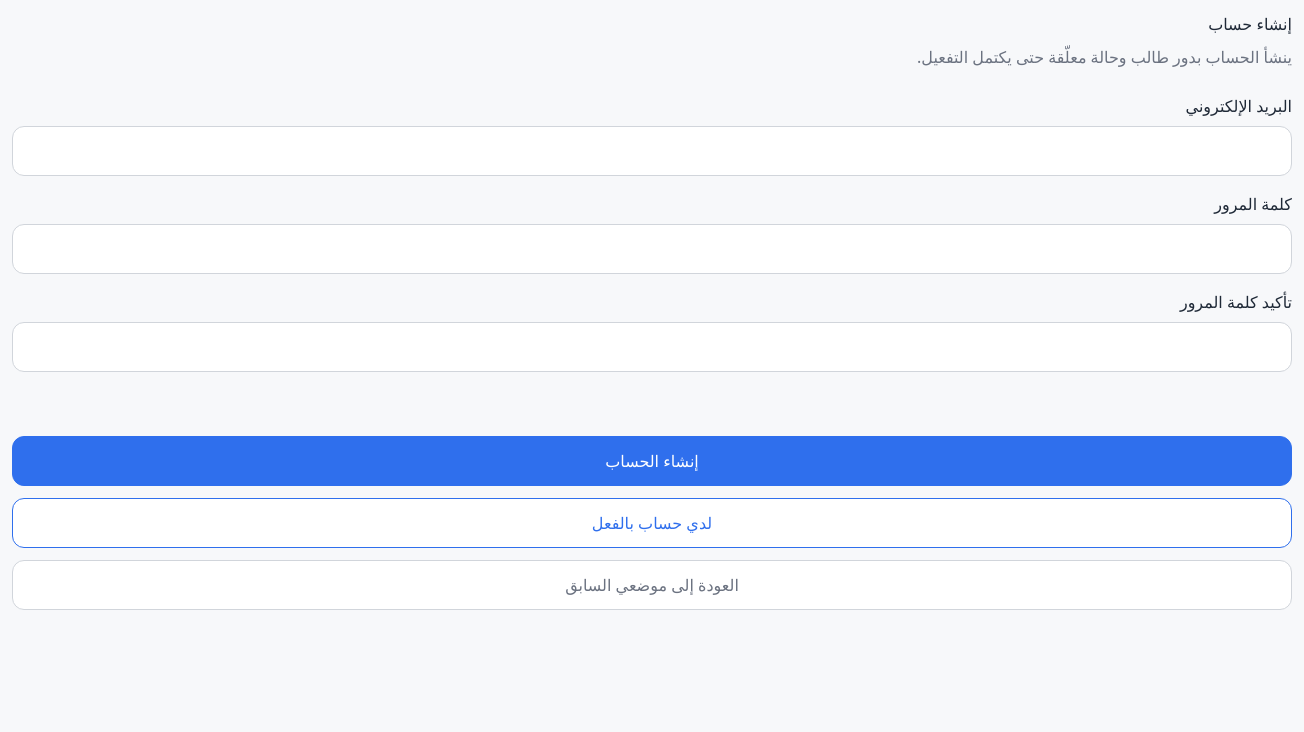
Test case: SignUpForm › يرفض كلمات المرور غير المتطابقة قبل استدعاء الخدمة
Type "new@example.com" into the field labelled "البريد الإلكتروني" at point(652, 151), box [12,126,1292,176]
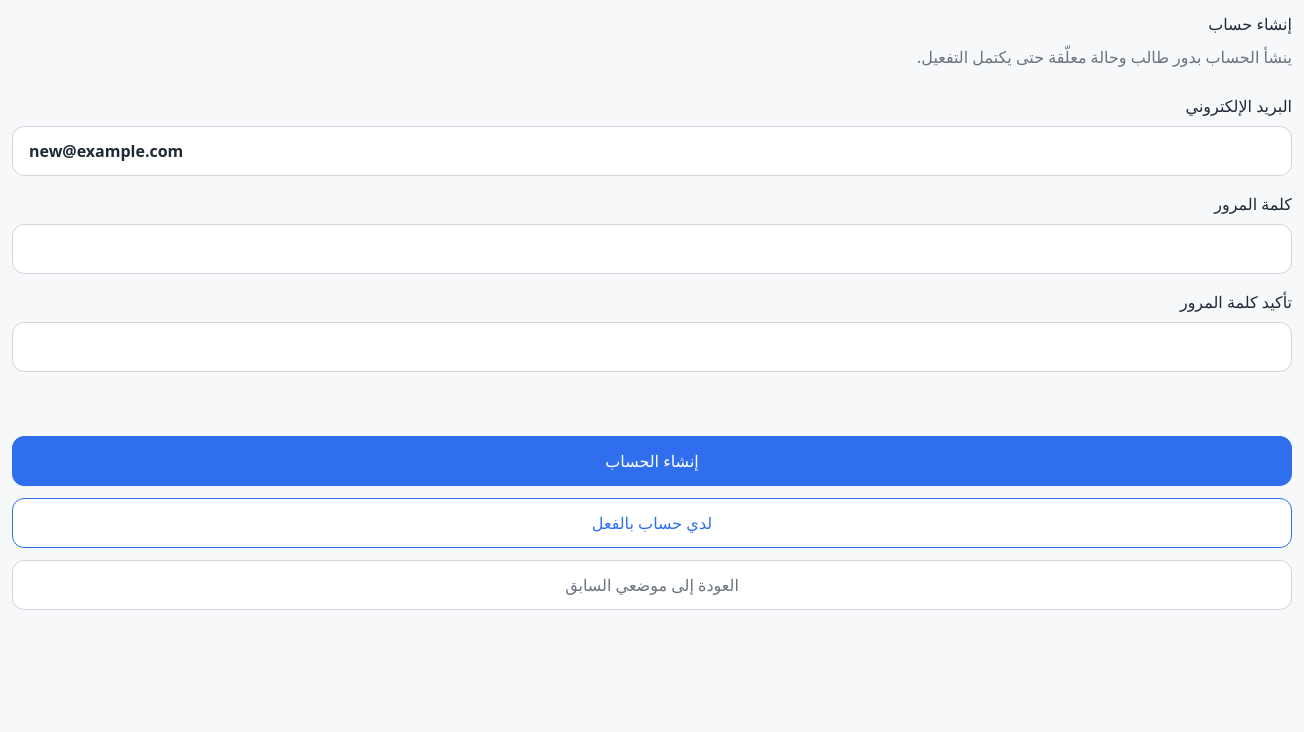
Type "first-password" into the password field labelled "كلمة المرور" at point(652, 249), box [12,224,1292,274]
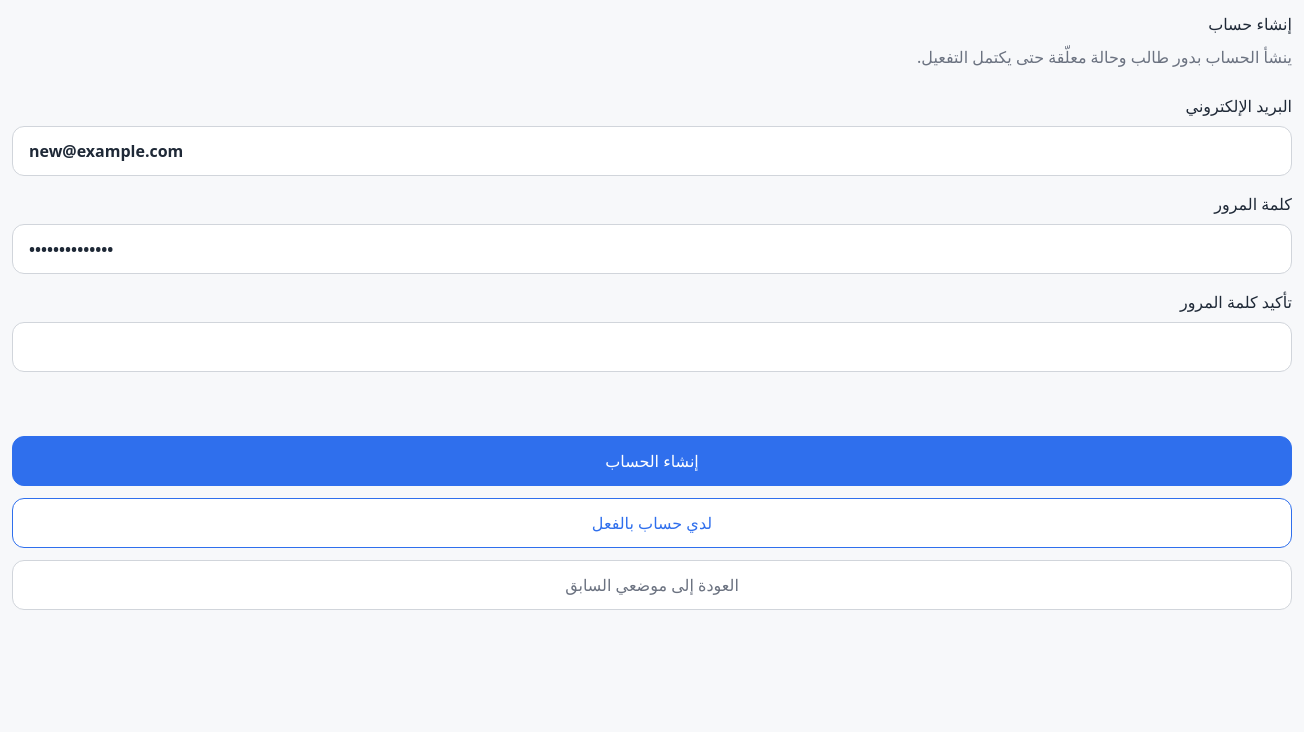
Type "second-password" into the password field labelled "تأكيد كلمة المرور" at point(652, 347), box [12,322,1292,372]
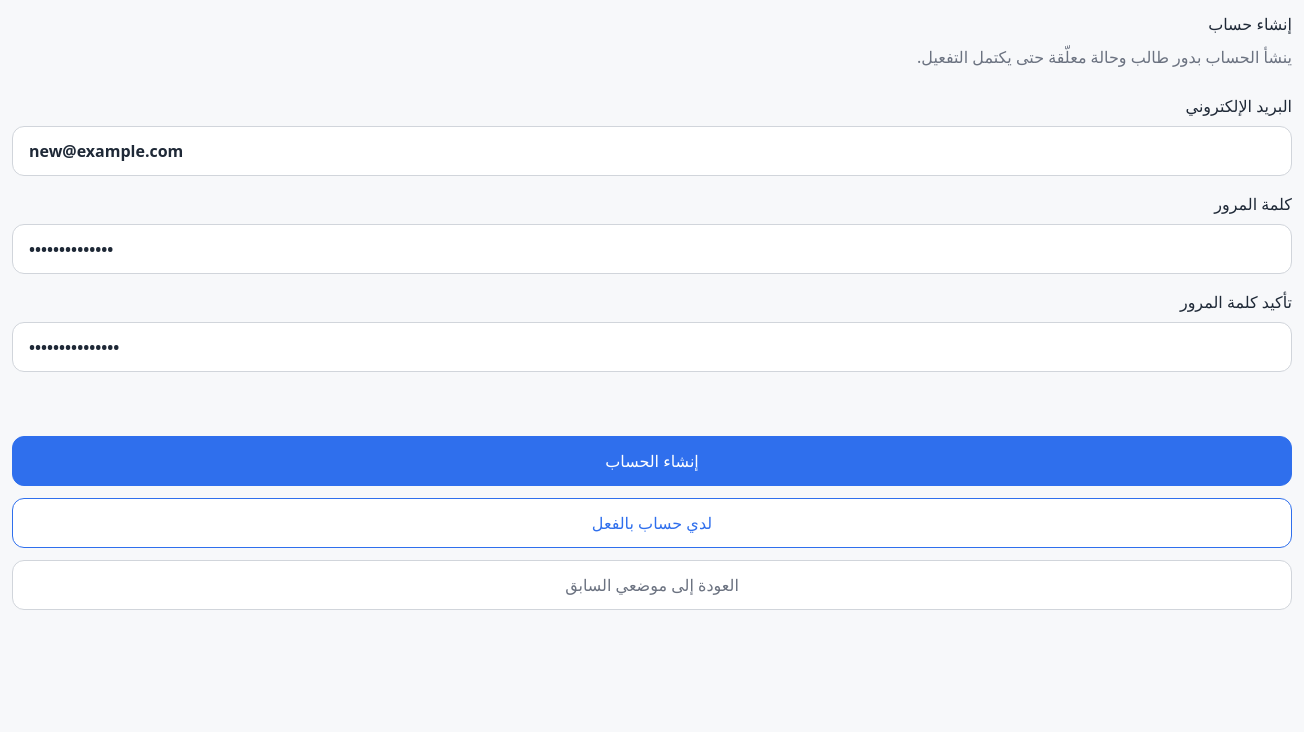
Click the button "إنشاء الحساب" at point(652, 461), box [12,436,1292,486]
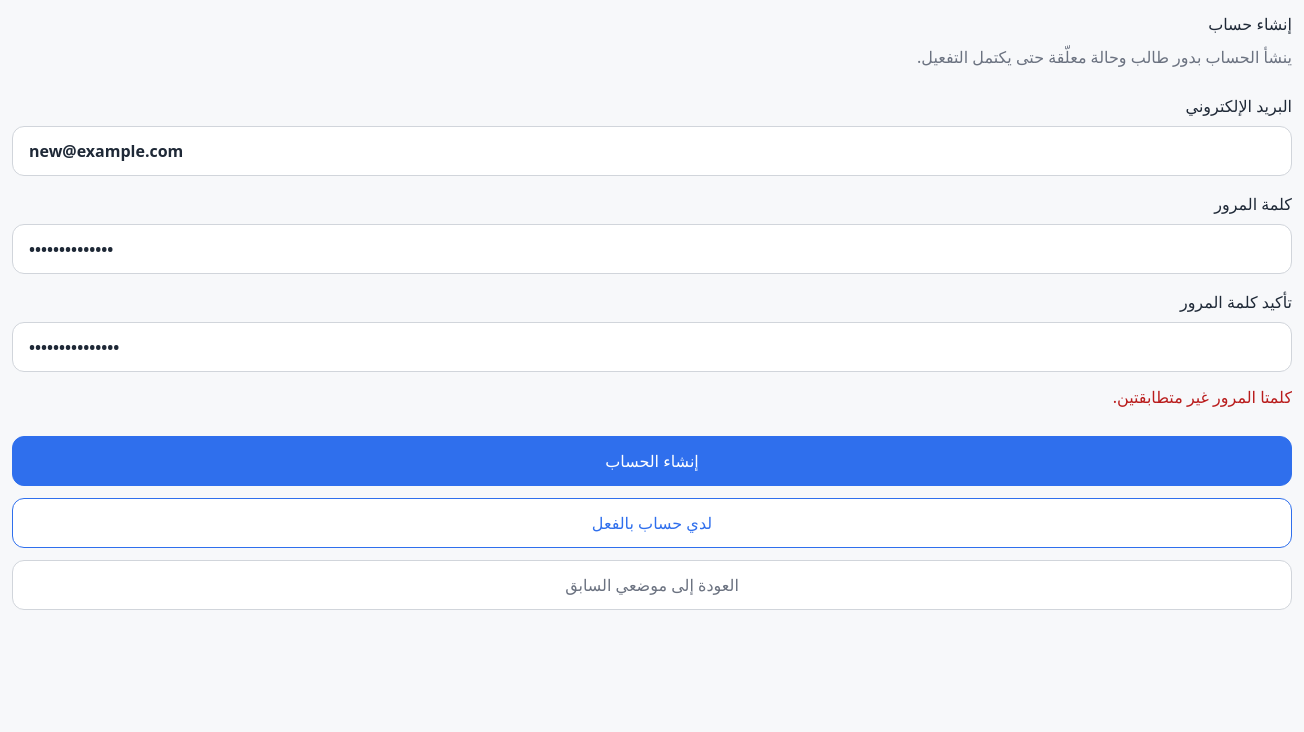
Check: the message reads "كلمتا المرور غير متطابقتين.", box [1113,386,1292,408]
